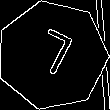L_SW: (26, 26, 78, 85)
